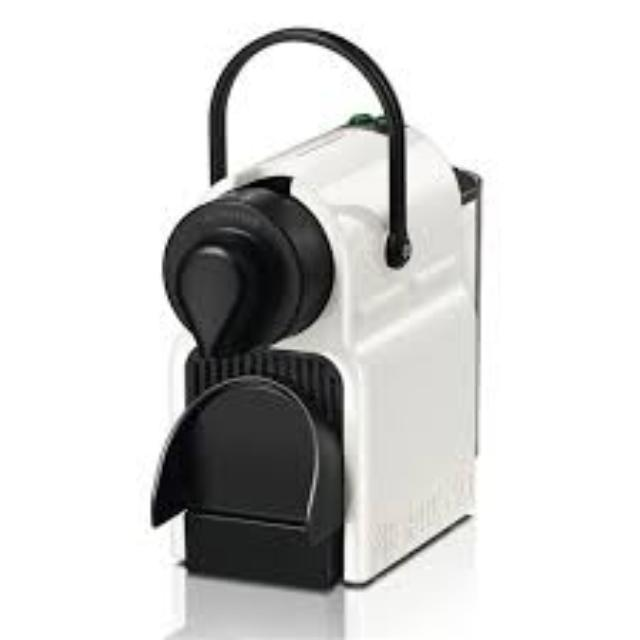Coffee-Machine: (146, 28, 492, 604)
